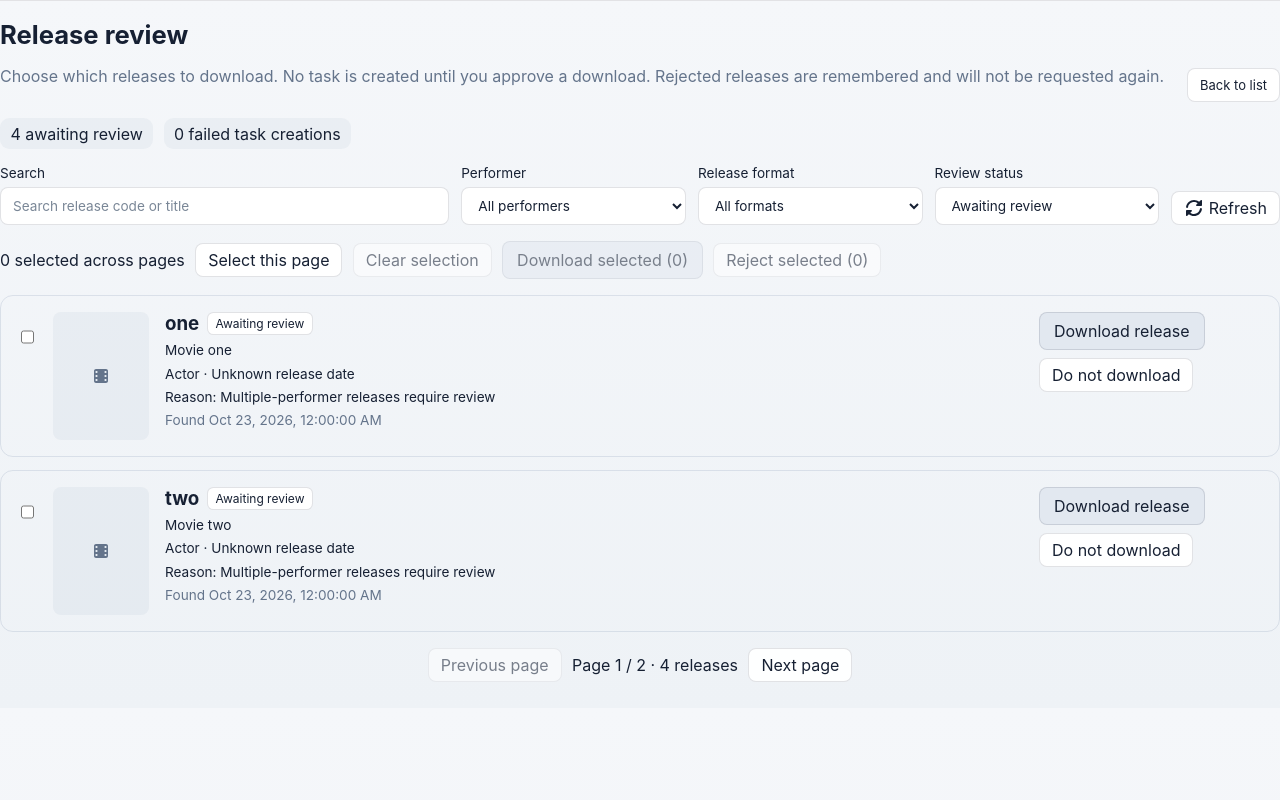
Test: release review actions › submits the full cross-page selection and retains failed items
The width and height of the screenshot is (1280, 800).
Click the checkbox named "Select one": (28, 337) [21, 318, 34, 356]
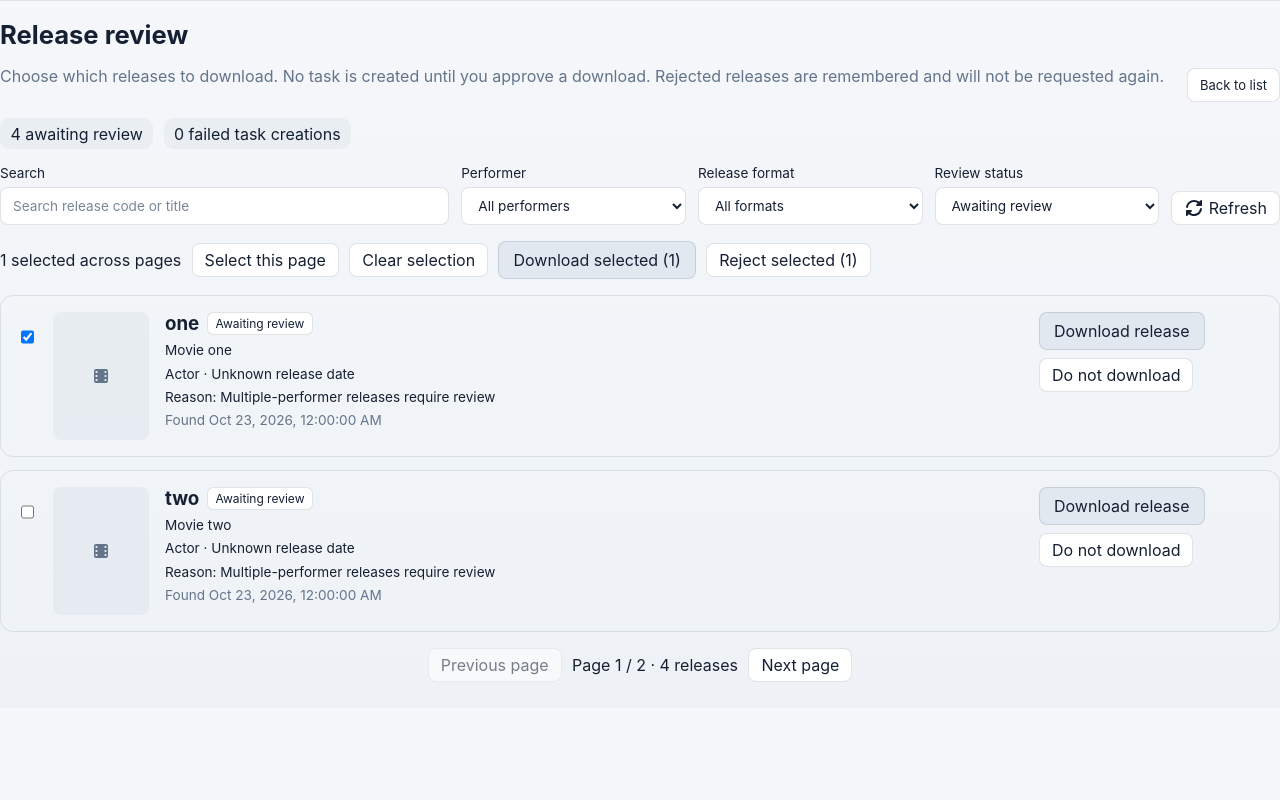
Click the button "Next page": (800, 665) [748, 648, 852, 682]
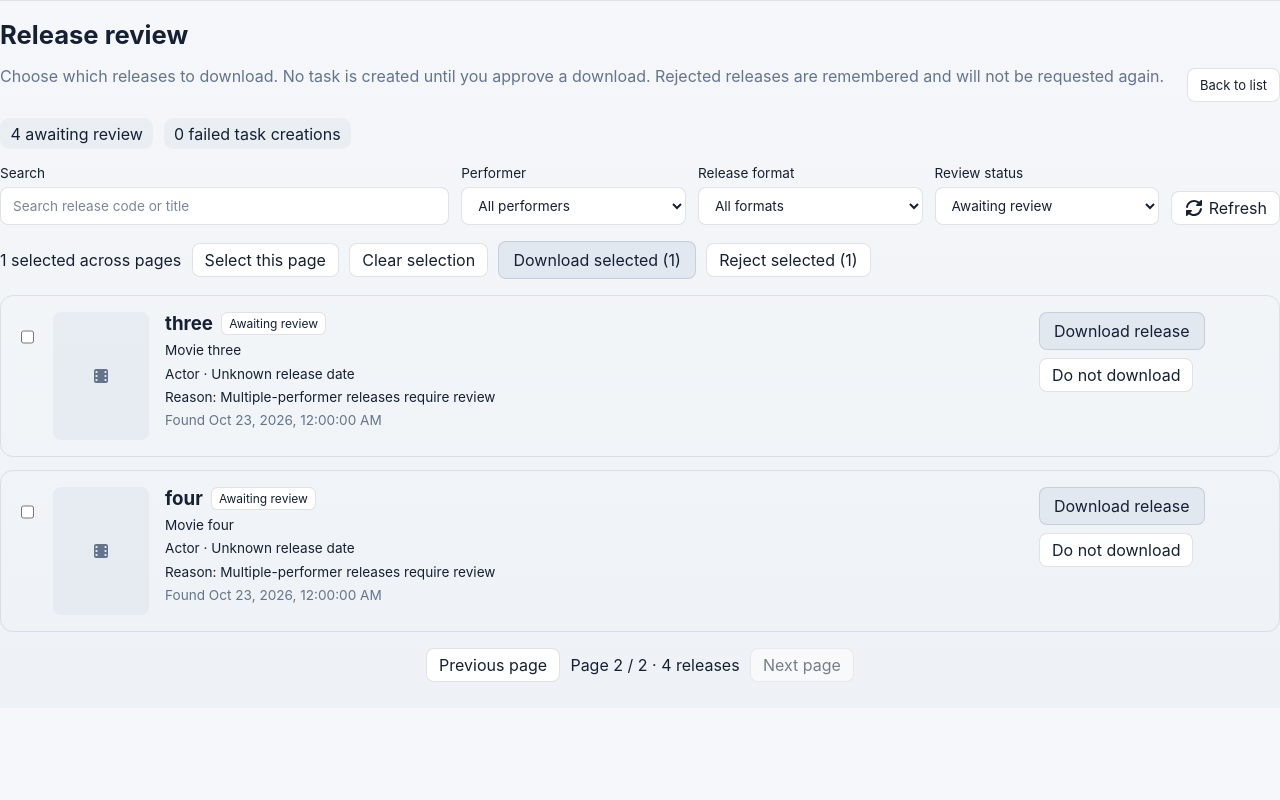
Click the checkbox named "Select three": (28, 337) [21, 318, 34, 356]
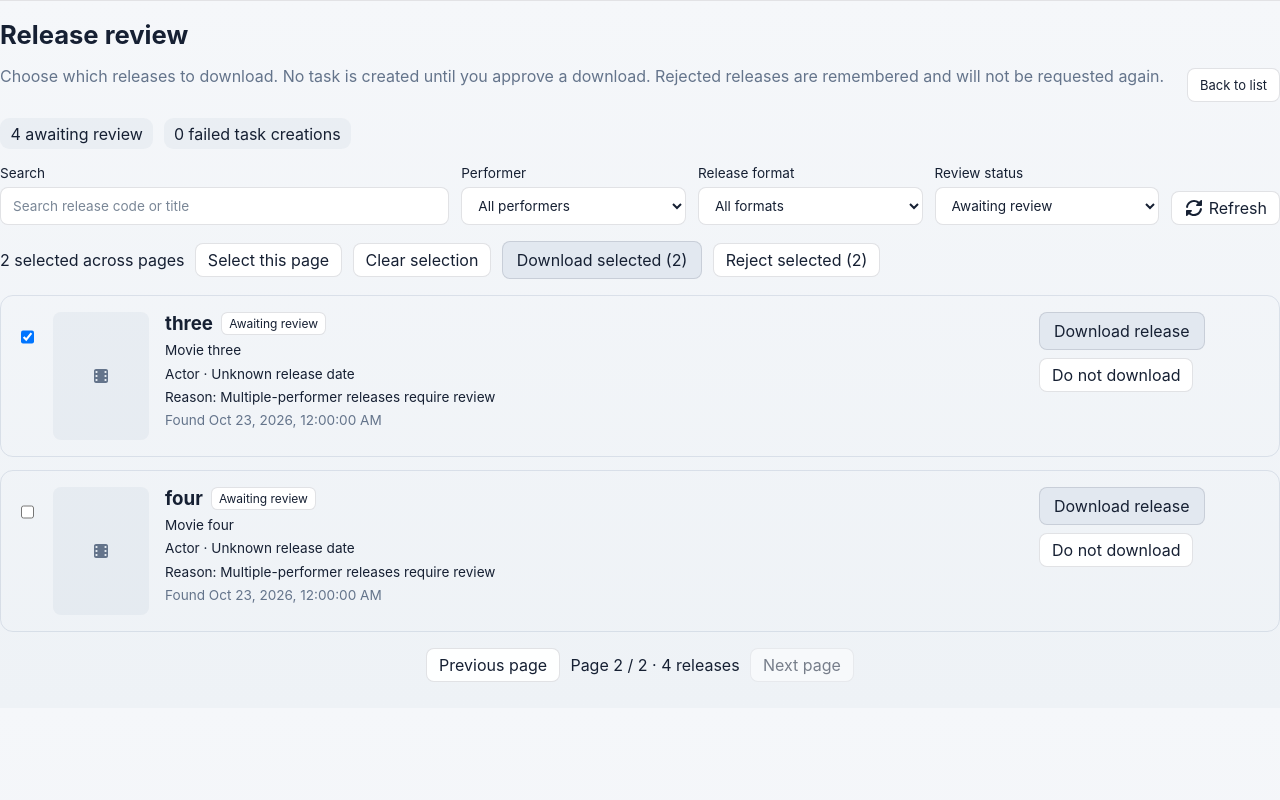
Click the button "Download selected (2)": (602, 260) [502, 241, 702, 279]
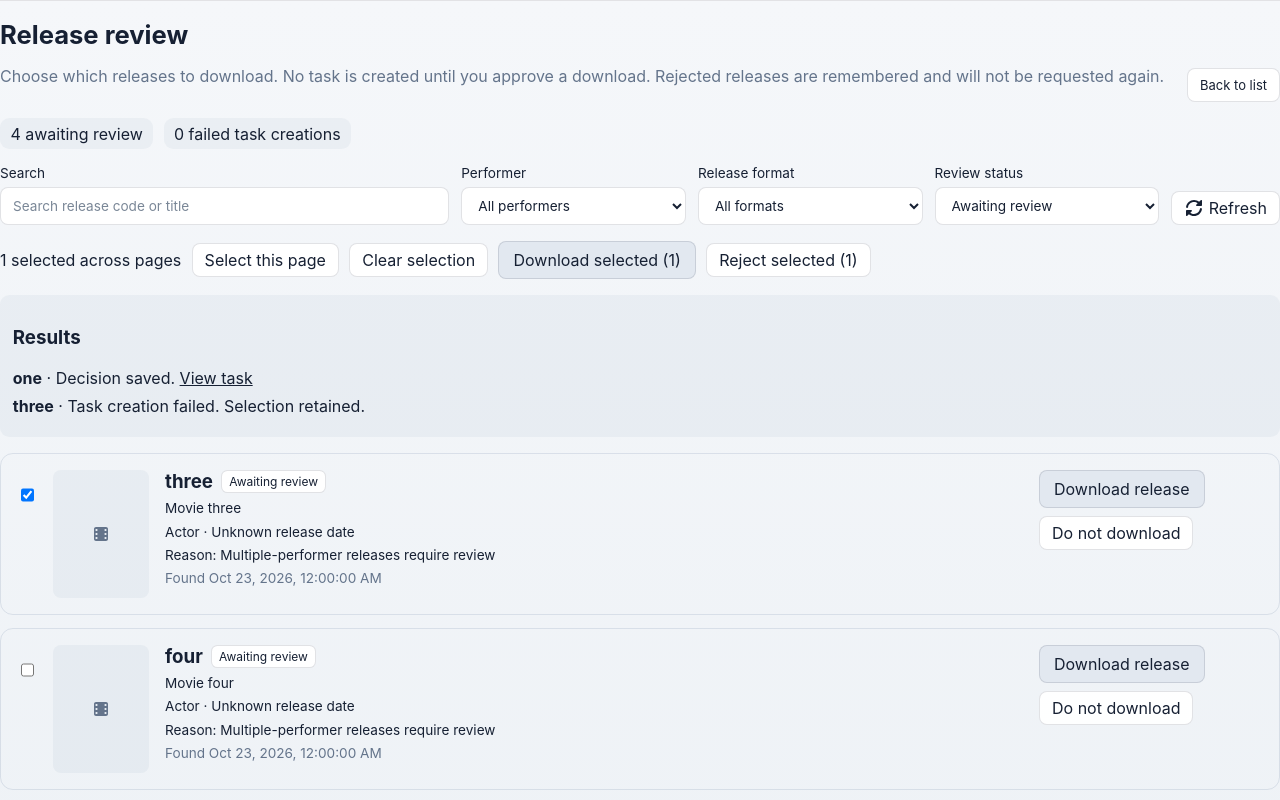
Expected: the checkbox named "Select three" is checked, [21, 476, 34, 514]
Expected: the text "1 selected across pages" is shown, [0, 250, 181, 270]
